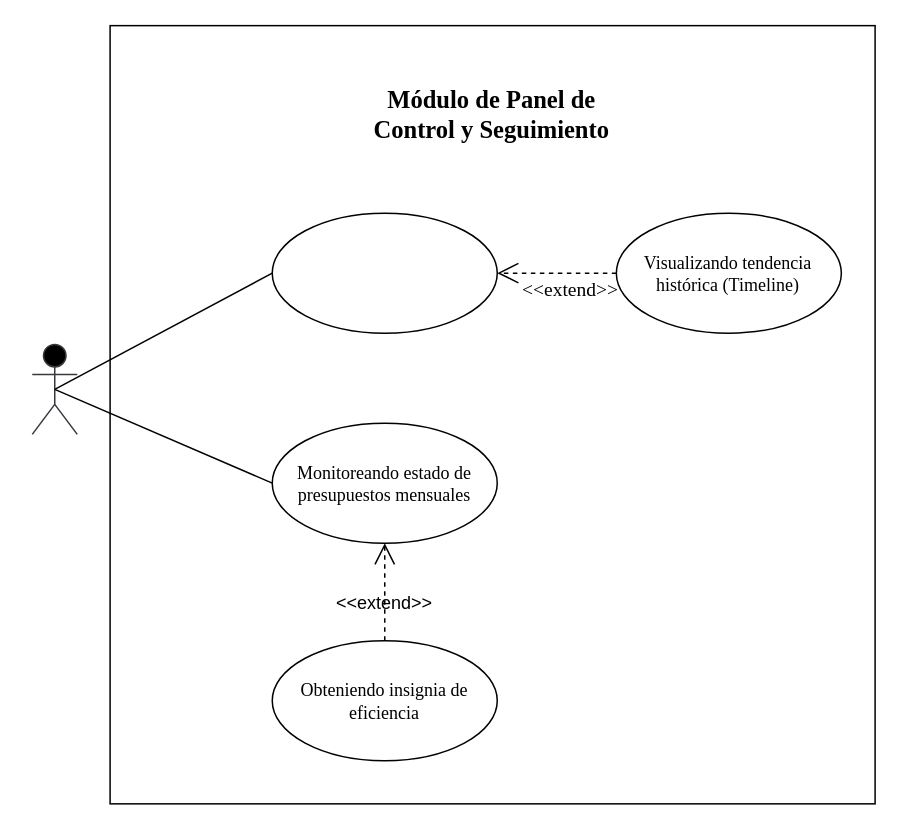
Image size: 902x831. Some labels were removed from this diagram. The centre of each missing label's shape, as x and y in pixels:
Usuario: pixel 54 388
Visualizando métricas consolidadas de Proyecto: pixel 384 272
